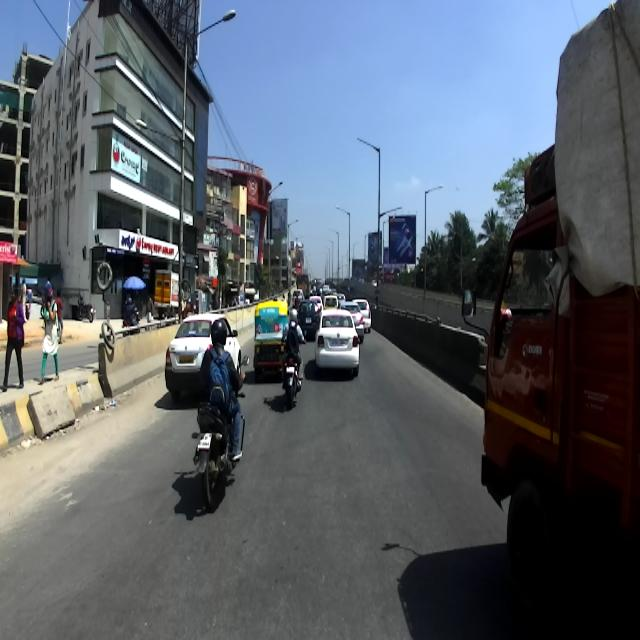car ahead at: (312, 308, 362, 376)
motorcycle ahead at: (192, 401, 248, 504), (278, 346, 308, 404)
person ahead at: (32, 285, 70, 365)
truck ahead at: (459, 0, 640, 640)
